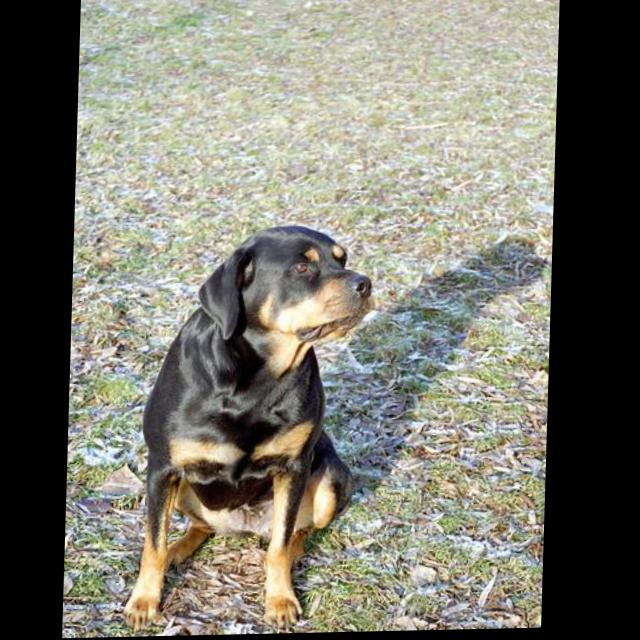rottweiler: (126, 225, 378, 634)
